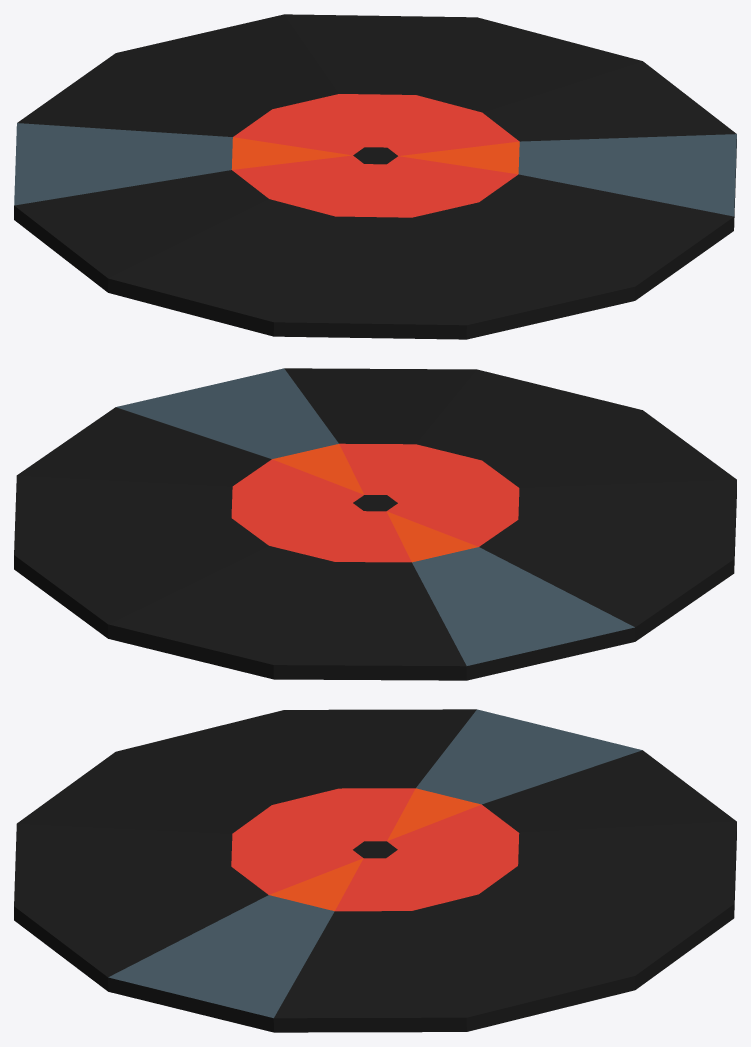
File: Vinyl.fbx
3 views of the same model, one above another, from view 1: azimuth 30°, elevation 25°; view 2: azimuth 150°, elevation 25°; view 3: azimuth 270°, elevation 25° (orthographic).
Visible parts, largest first — view 1: group225046476.001; view 2: group225046476.001; view 3: group225046476.001.
Part boxes in pixels (left/top/right/bottom): group225046476.001: left=14, top=14, right=736, bottom=339; group225046476.001: left=14, top=368, right=736, bottom=680; group225046476.001: left=14, top=709, right=736, bottom=1032.
Bounding box in the file's own units: 32.95 × 1.7 × 32.95.
